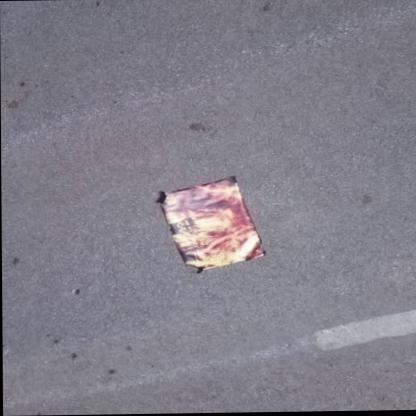fire-poster: (153, 173, 267, 275)
